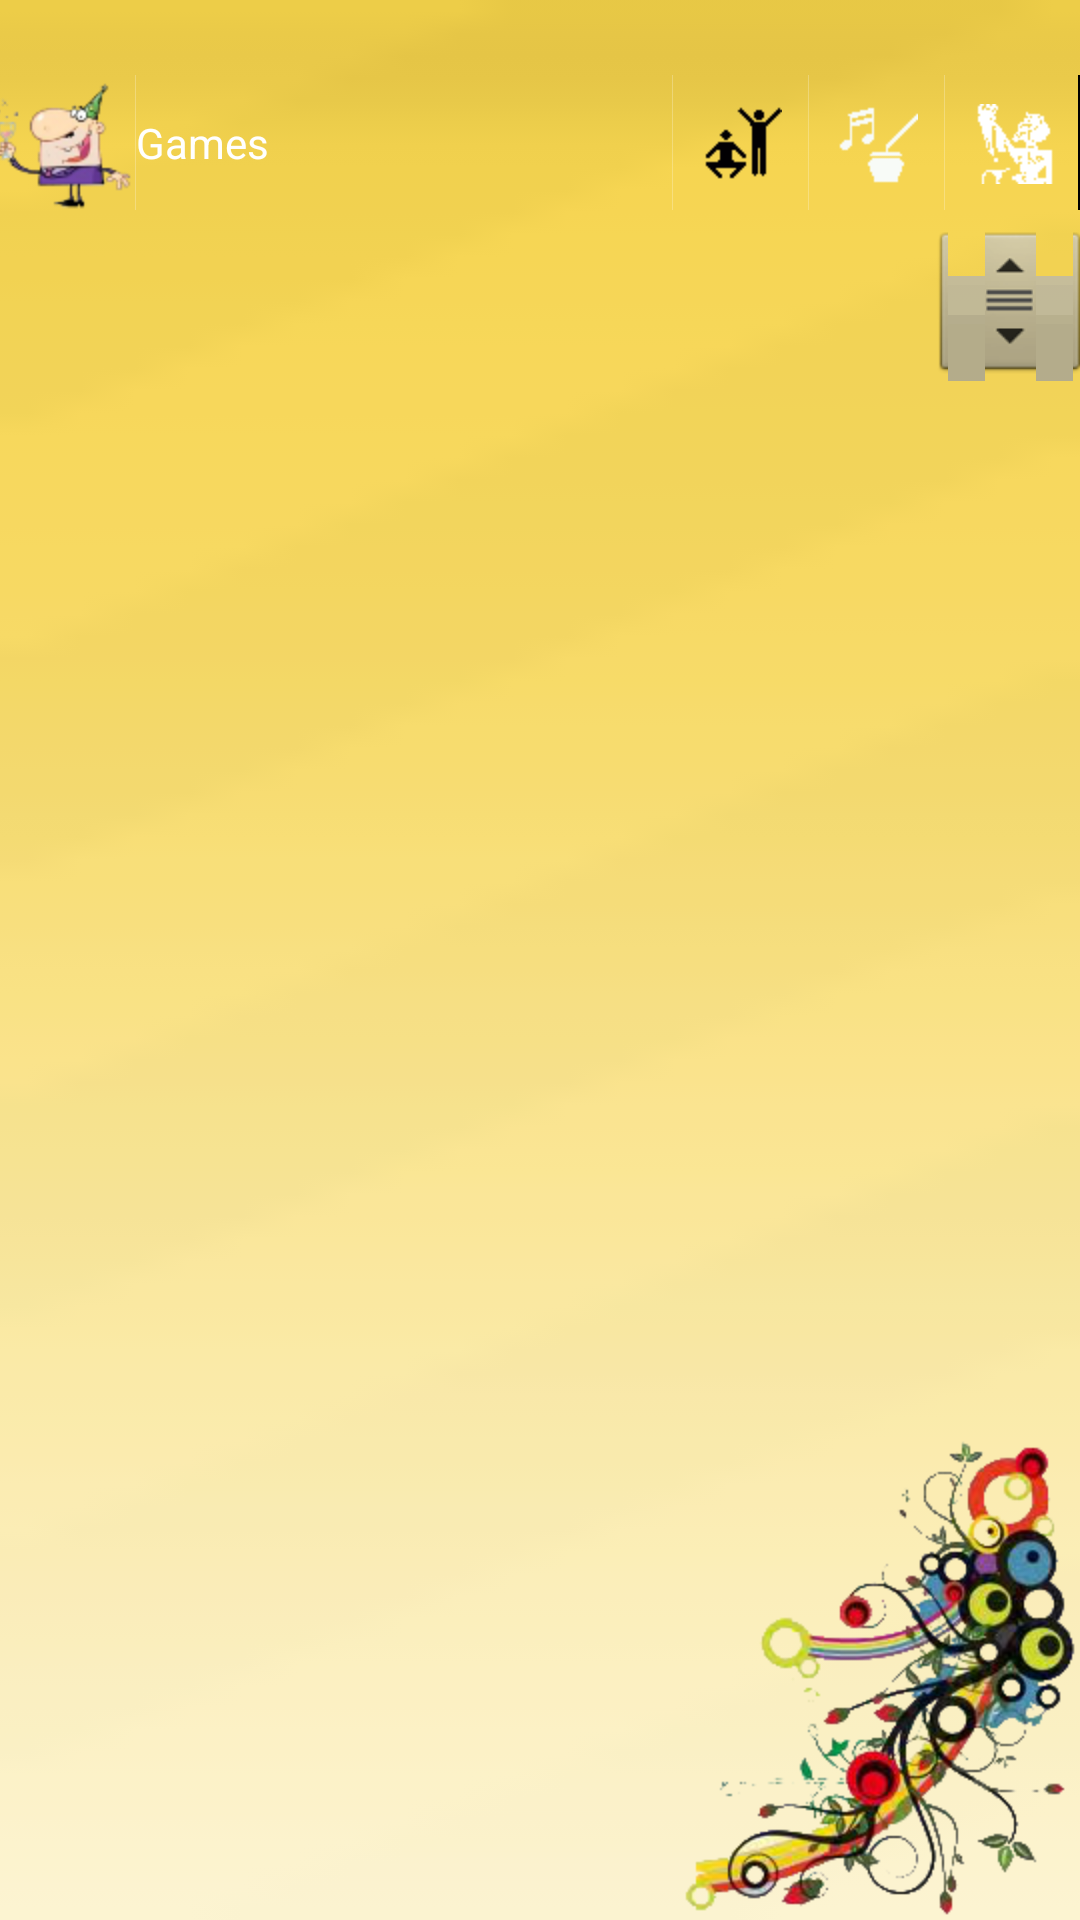

Screen size 1080 × 1920. Icon name, then its center in pixels as (x=x, y=y):
title poetry: (x=878, y=145)
